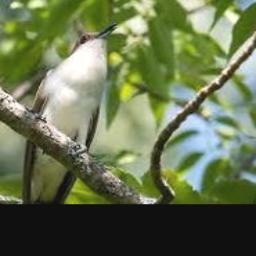Cuckoo: (24, 23, 119, 204)
